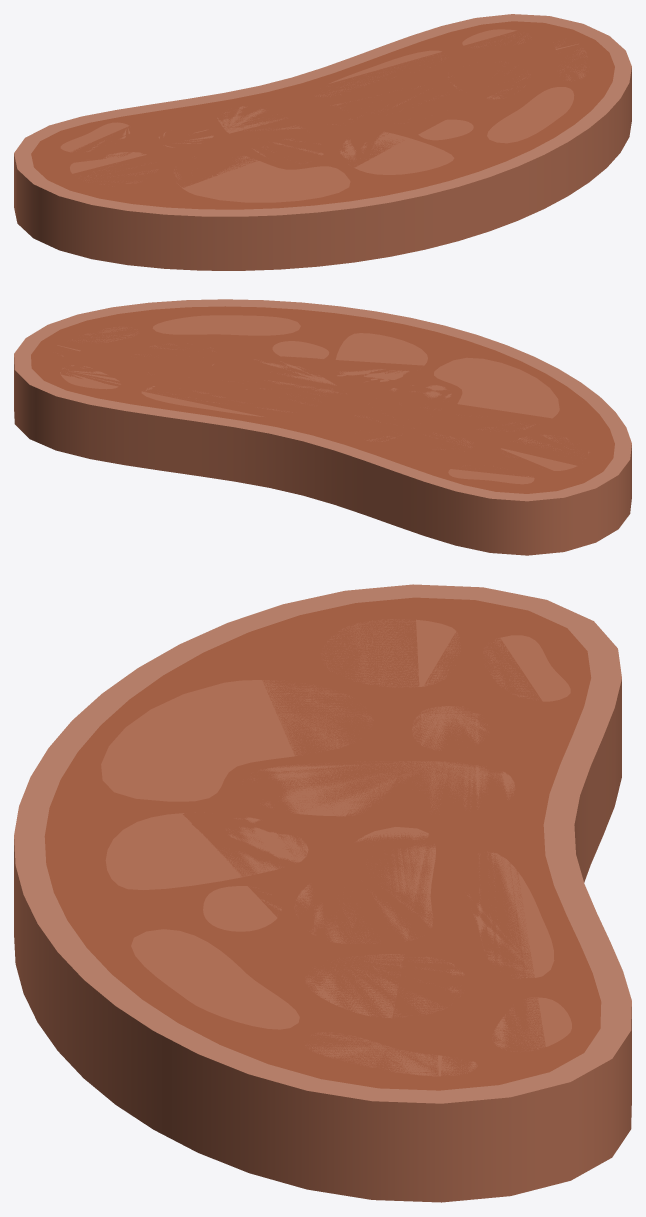
File: Bread J.fbx
The picture shows the model from 3 angles, top to bottom: view 1: azimuth 30°, elevation 25°; view 2: azimuth 150°, elevation 25°; view 3: azimuth 270°, elevation 25°; orthographic projection. The views are drawn at different scales.
Visible parts, largest first — view 1: Bread J; view 2: Bread J; view 3: Bread J.
Boxes of the visible parts, x1,y1,x2,y2 form: Bread J: (14, 14, 631, 270); Bread J: (14, 299, 631, 555); Bread J: (14, 584, 631, 1202).
Bounding box in the file's own units: 0.8892 × 0.0789 × 0.4472.
